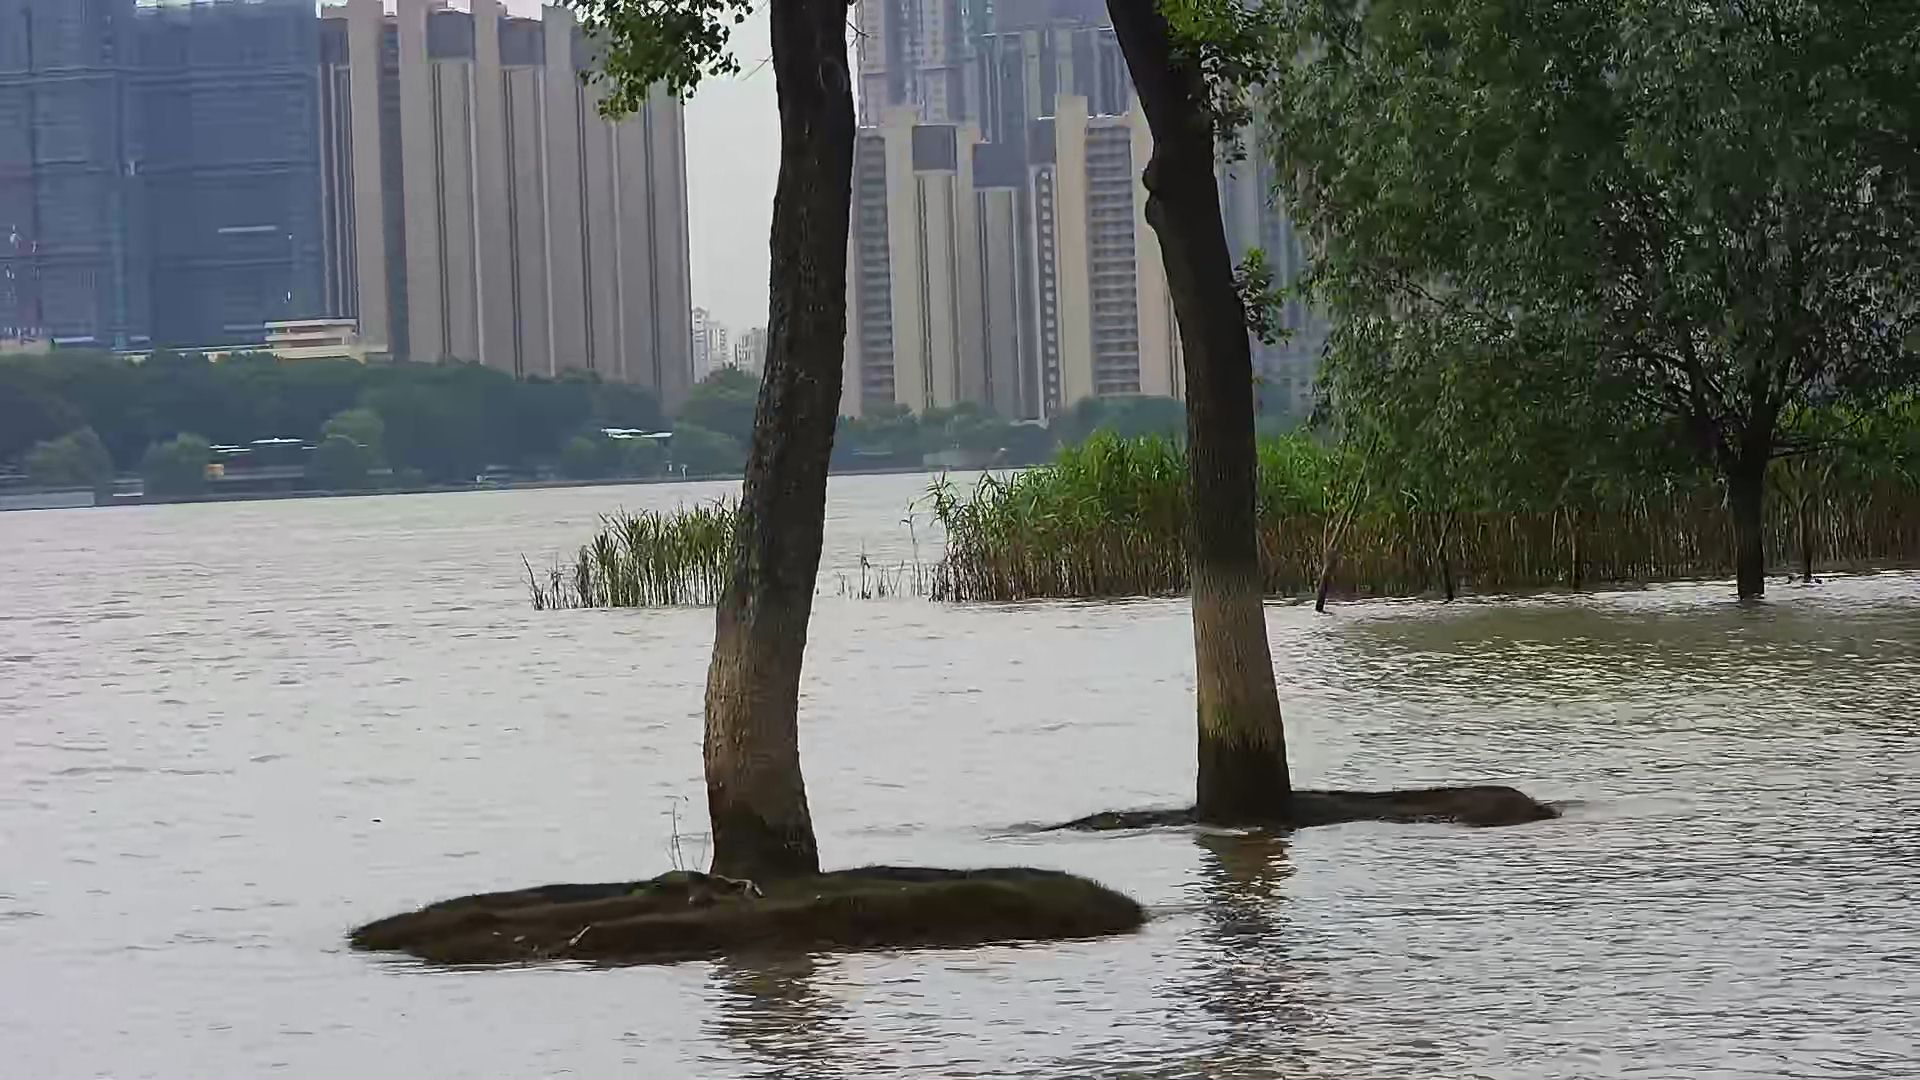grass: (932, 401, 1920, 600), (524, 498, 932, 608)
tree: (357, 1, 1149, 964), (1046, 1, 1557, 831), (1255, 1, 1920, 599)
